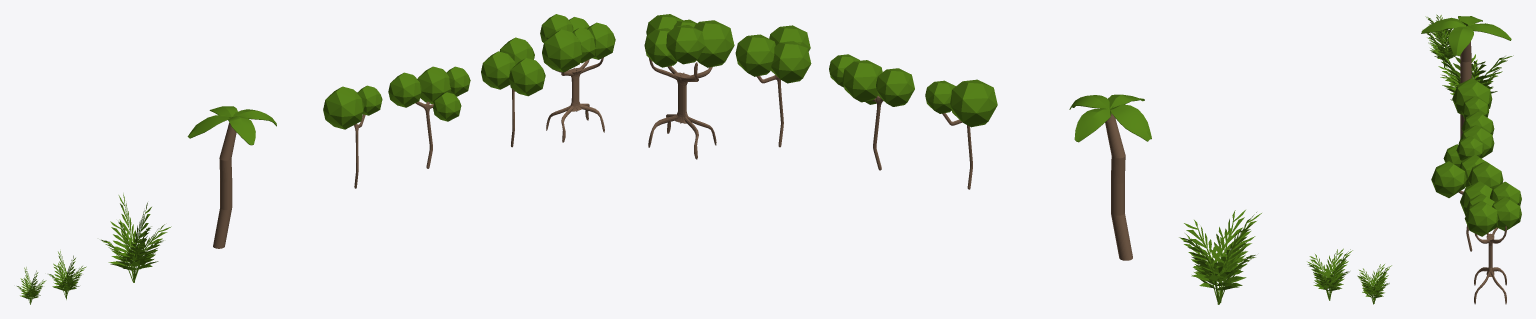
The model's file is Low_poly_tree.fbx.
3 views of the same model, side by side, from view 1: azimuth 30°, elevation 25°; view 2: azimuth 150°, elevation 25°; view 3: azimuth 270°, elevation 25° (orthographic). The views are drawn at different scales.
Parts seen in each view (by area): view 1: Circle.003, Plane.005, Icosphere.007, Icosphere.008, Plane.002, Plane.001, Icosphere.026, Plane.007, Icosphere.027, Icosphere.002, Icosphere.005, Icosphere.015 (+7 smaller); view 2: Plane.001, Plane.005, Circle.003, Icosphere.007, Plane.007, Icosphere.028, Icosphere.008, Plane.002, Icosphere.027, Icosphere.005, Icosphere.018, Icosphere.002 (+7 smaller); view 3: Plane.005, Icosphere.026, Plane.001, Icosphere.015, Icosphere.007, Plane.007, Icosphere.017, Icosphere.028, Icosphere.005, Icosphere.001, Circle.003, Icosphere.018 (+11 smaller).
Part boxes in pixels (x1,y1,x2,y2): Circle.003: (213,122,236,248); Plane.005: (187,106,276,145); Icosphere.007: (323,86,364,129); Icosphere.008: (542,29,582,72); Plane.002: (101,219,171,282); Plane.001: (118,193,151,282); Icosphere.026: (509,58,545,96); Plane.007: (546,57,604,142); Icosphere.027: (481,51,515,89); Icosphere.002: (388,72,421,107); Icosphere.005: (417,66,451,103); Icosphere.015: (587,22,615,59); Plane.001: (1180,210,1261,303); Plane.005: (1069,94,1151,142); Circle.003: (1105,113,1132,260); Icosphere.007: (950,79,997,127); Plane.007: (648,58,716,159); Icosphere.028: (735,34,775,76); Icosphere.008: (694,20,734,67); Plane.002: (1179,227,1255,304); Icosphere.027: (771,41,811,83); Icosphere.005: (842,60,882,102); Icosphere.018: (666,25,705,64); Icosphere.002: (876,68,914,106); Plane.005: (1421,16,1511,56); Icosphere.026: (1431,161,1466,197); Plane.001: (1430,48,1513,93); Icosphere.015: (1464,201,1498,236); Icosphere.007: (1452,78,1492,115); Plane.007: (1474,226,1506,304); Icosphere.017: (1492,197,1521,230); Icosphere.028: (1467,161,1503,188); Icosphere.005: (1458,125,1494,158); Icosphere.001: (1456,135,1484,160); Circle.003: (1460,41,1471,138); Icosphere.018: (1490,181,1521,205).
Size of the model in its own units: 16084 by 3713 by 2403.
